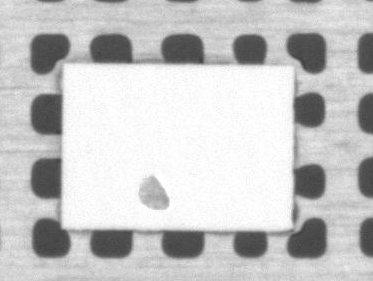DIE_INK: (137, 175, 170, 212)
